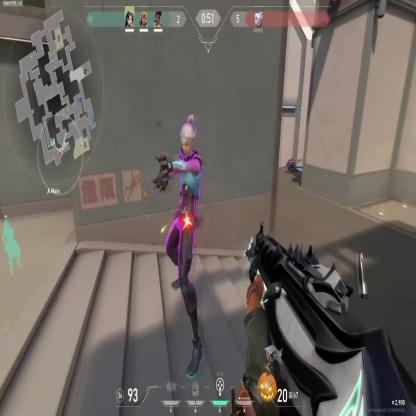enemy: (154, 109, 204, 380)
enemy_head: (180, 114, 197, 157)
